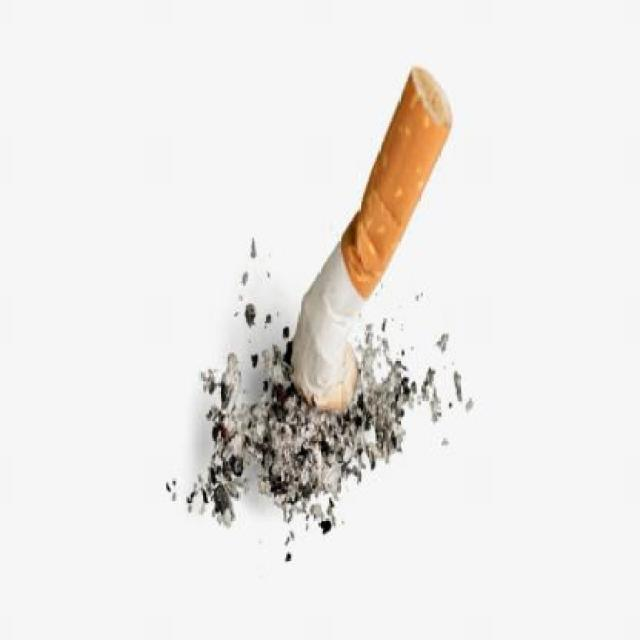cigarette: (264, 64, 488, 407)
